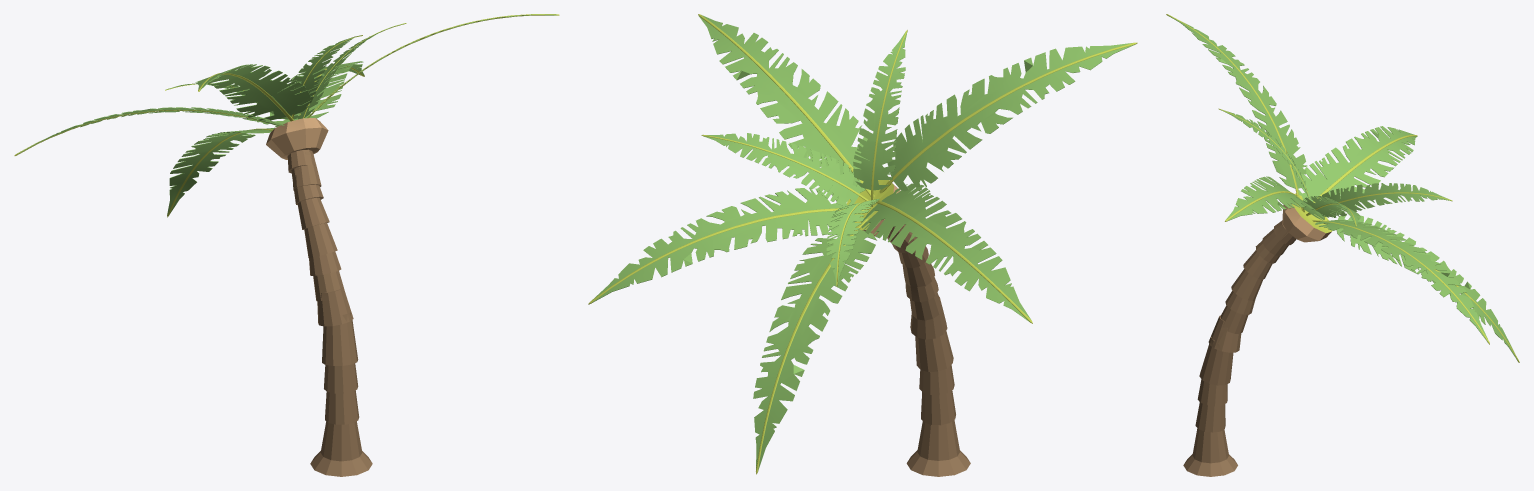
Rendered from Palma2.fbx.
3 renders of one model, left to right at view 1: azimuth 30°, elevation 25°; view 2: azimuth 150°, elevation 25°; view 3: azimuth 270°, elevation 25°, orthographic. The views are drawn at different scales.
Parts seen in each view (by area): view 1: Palma_2; view 2: Palma_2; view 3: Palma_2.
Part boxes in pixels (x1=…): Palma_2: x1=14, y1=14, x2=559, y2=476; Palma_2: x1=588, y1=14, x2=1137, y2=476; Palma_2: x1=1166, y1=14, x2=1519, y2=476.
Bounding box in the file's own units: 520 × 493 × 416.
